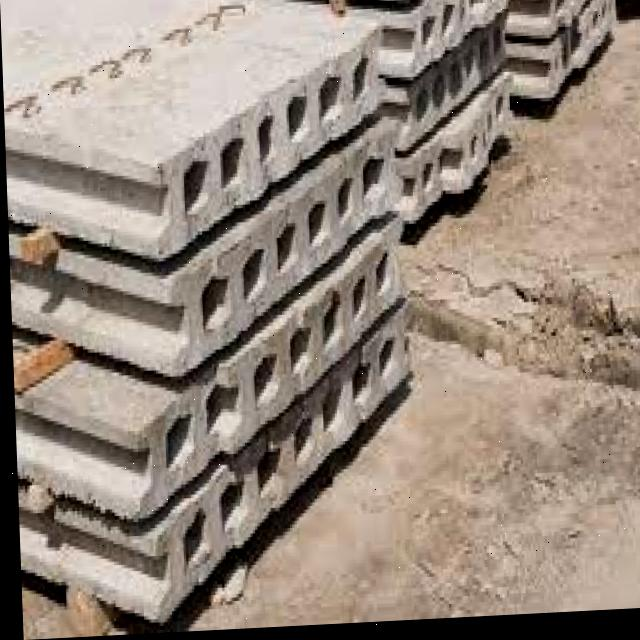bricks: (0, 0, 614, 619)
